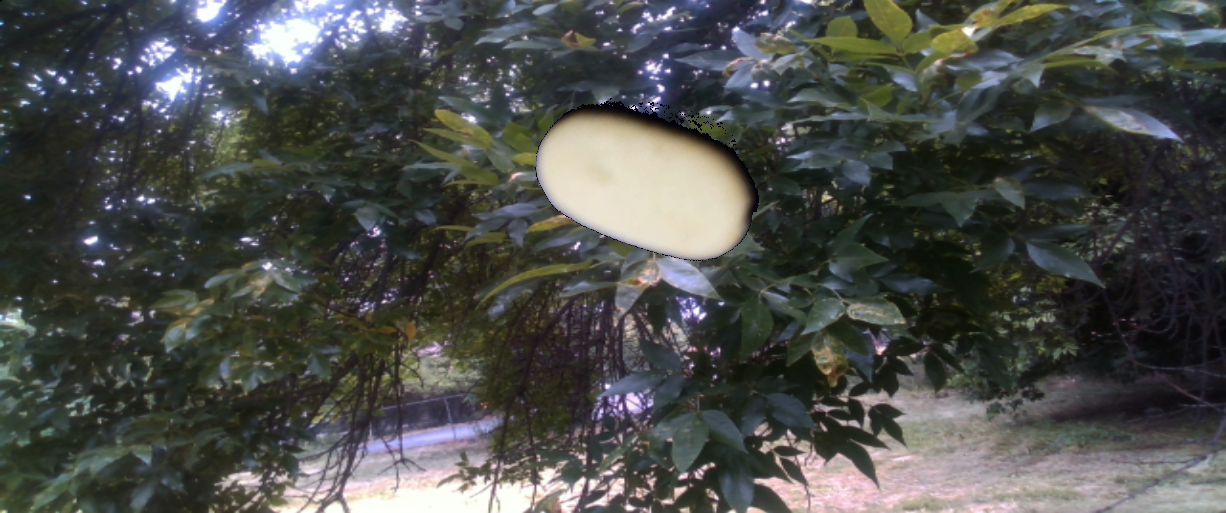test: (514, 45, 782, 316)
